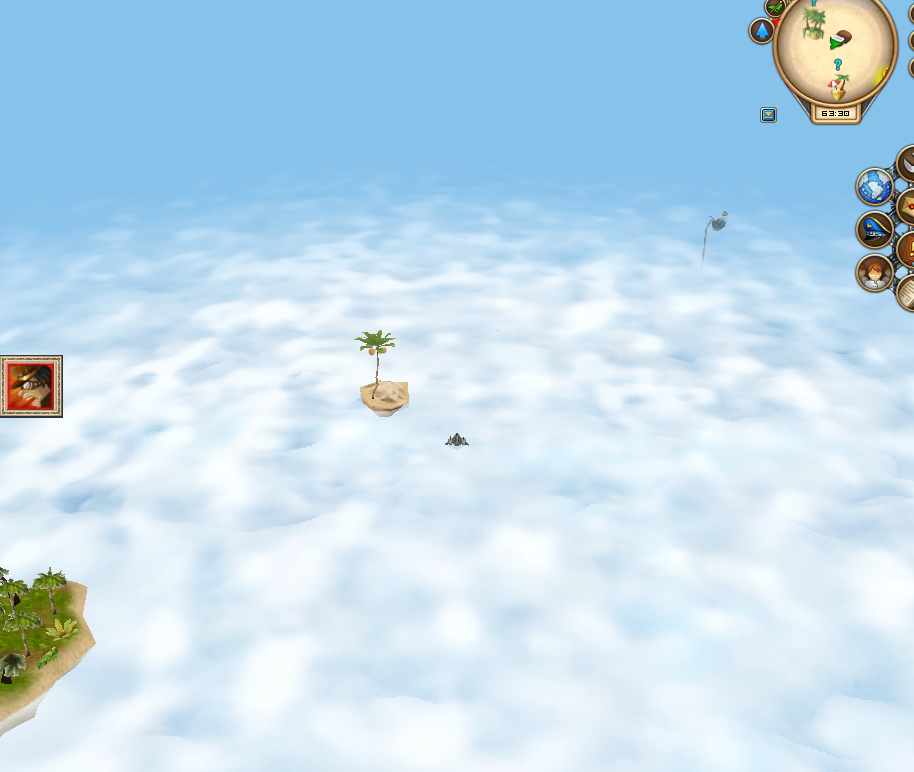palm: (349, 325, 416, 423)
